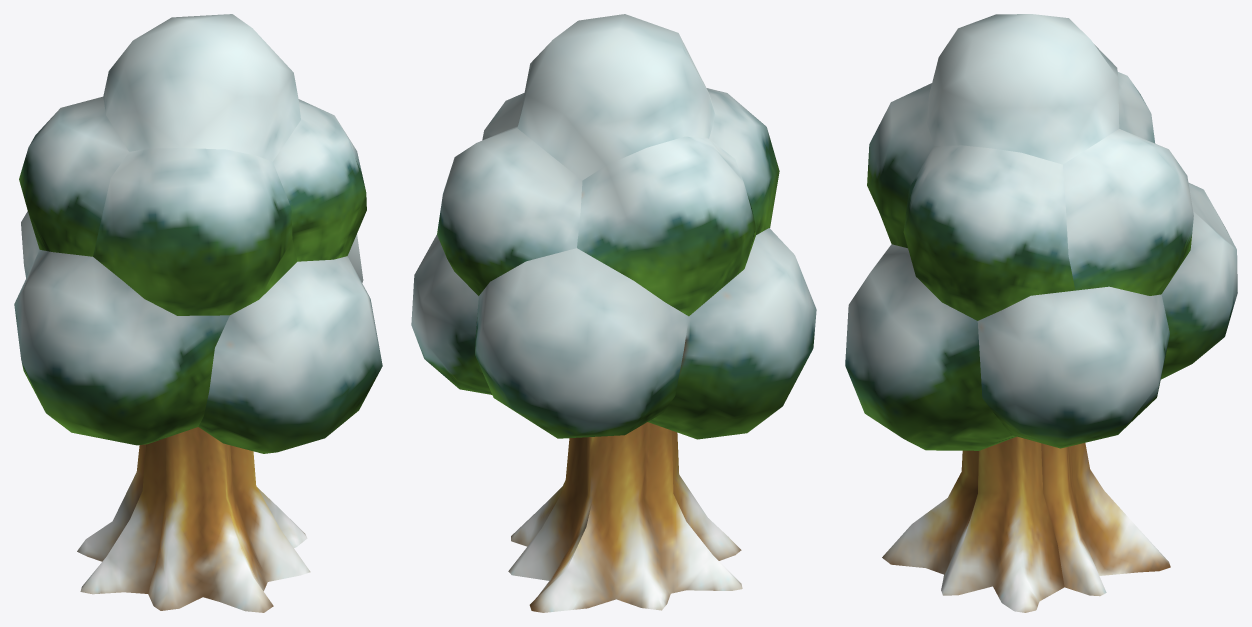
The model's file is Tree 1 - Snow.fbx.
The picture shows the model from 3 angles, left to right: view 1: azimuth 30°, elevation 25°; view 2: azimuth 150°, elevation 25°; view 3: azimuth 270°, elevation 25°; orthographic projection.
Visible parts, largest first — view 1: tree1_snow; view 2: tree1_snow; view 3: tree1_snow.
Boxes of the visible parts, <box> form: tree1_snow: <box>14,14,382,612</box>; tree1_snow: <box>411,14,816,612</box>; tree1_snow: <box>845,14,1237,612</box>.
Bounding box in the file's own units: 1.4 × 2.05 × 1.34.
